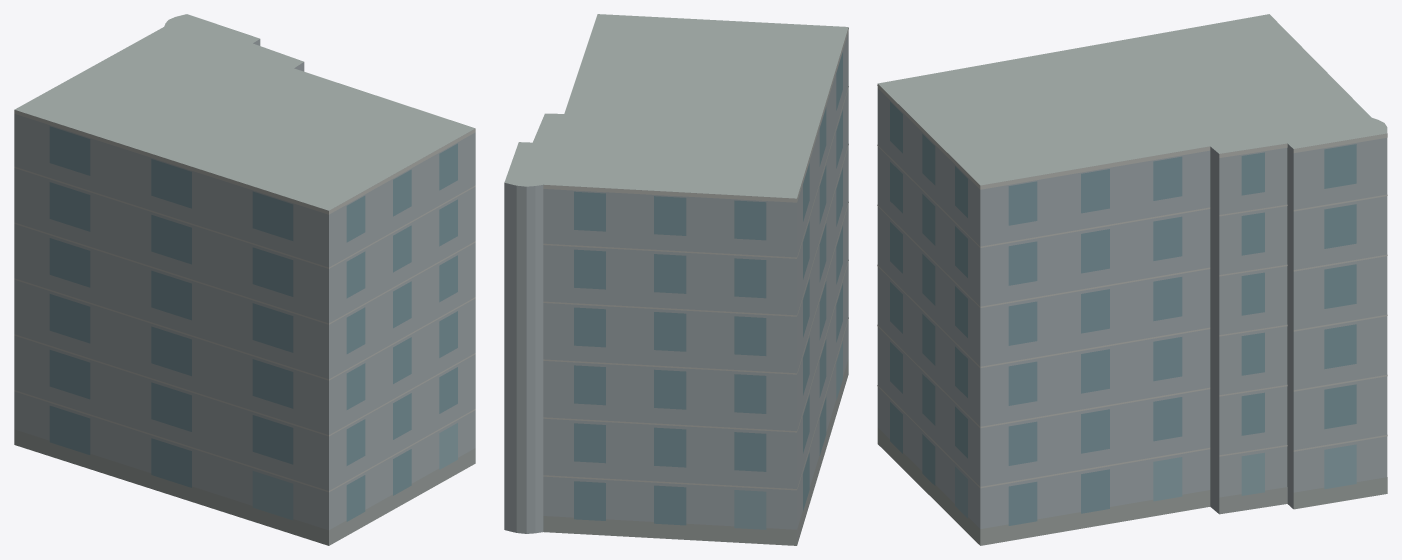
Rendered from survey-upis-32709320.glb.
3 renders of one model, left to right at view 1: azimuth 30°, elevation 25°; view 2: azimuth 150°, elevation 25°; view 3: azimuth 270°, elevation 25°, orthographic. The views are drawn at different scales.
Parts seen in each view (by area): view 1: survey-upis-32709320.tmp; view 2: survey-upis-32709320.tmp; view 3: survey-upis-32709320.tmp.
Part boxes in pixels (bbox=[...]): survey-upis-32709320.tmp: bbox=[14, 14, 475, 545]; survey-upis-32709320.tmp: bbox=[504, 14, 848, 545]; survey-upis-32709320.tmp: bbox=[877, 14, 1387, 545].
Size of the model in its own units: 20.94 by 20.5 by 26.3.
